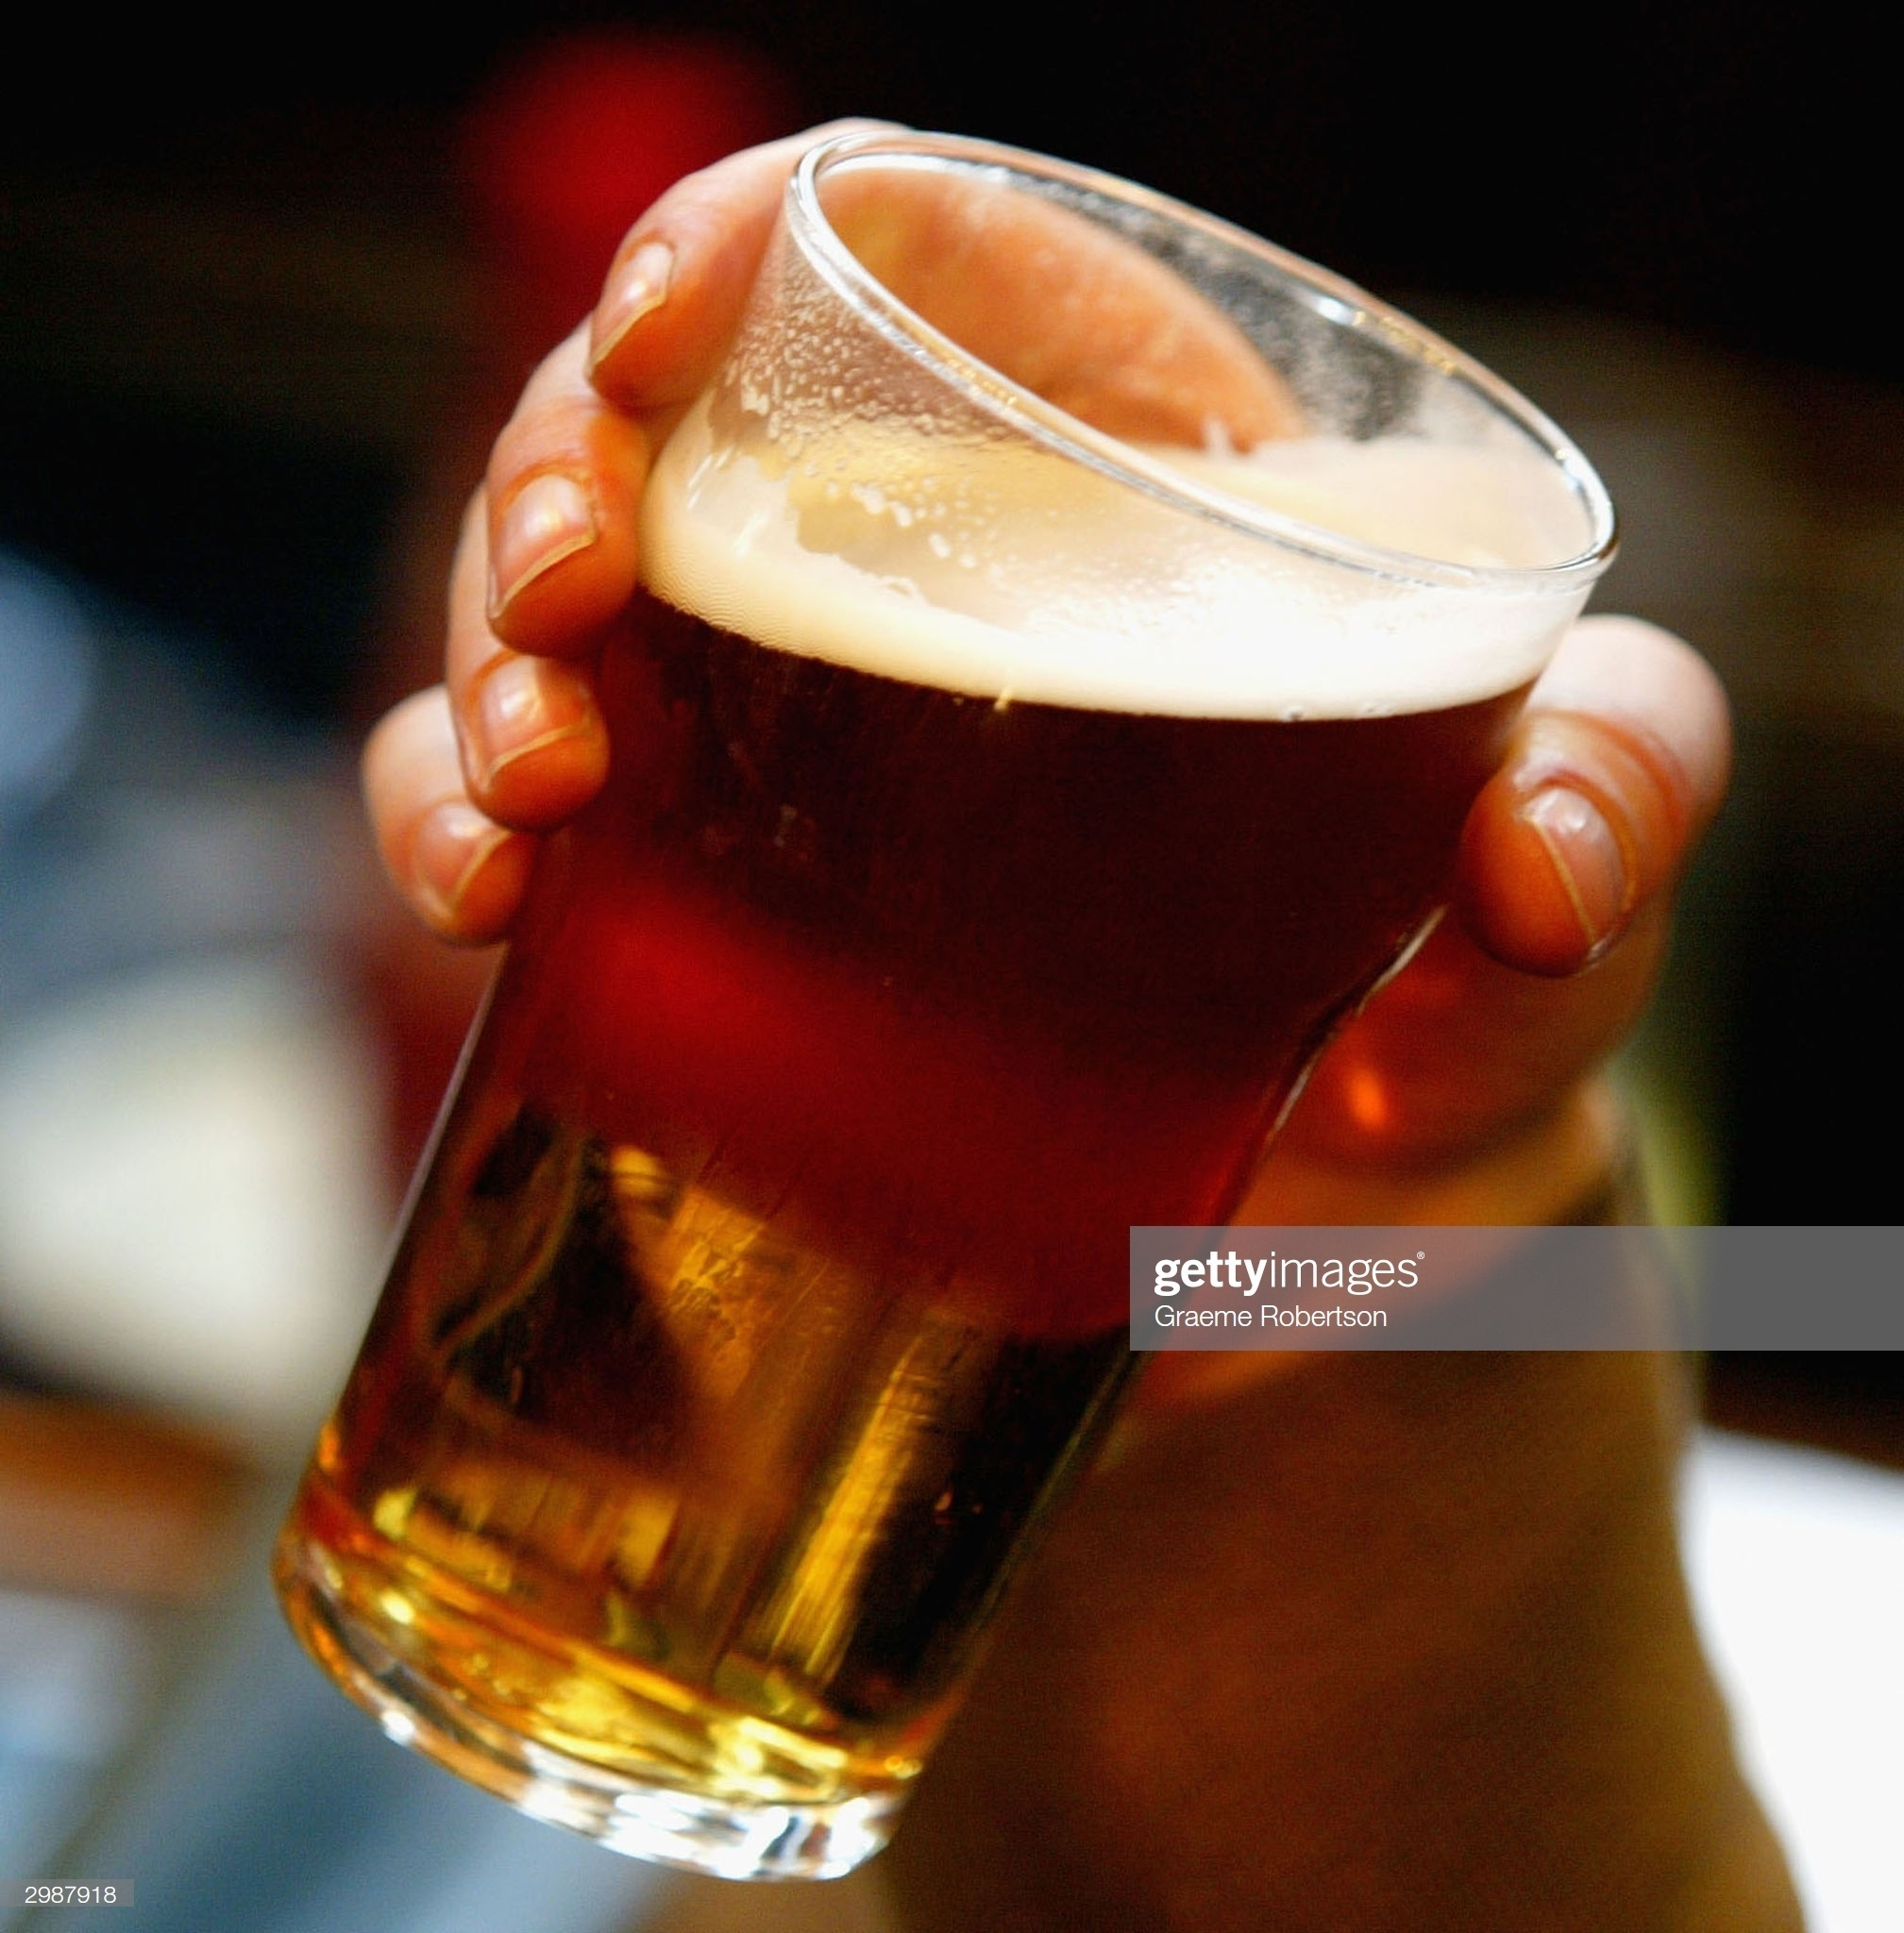whiskey: (183, 206, 1581, 1792)
